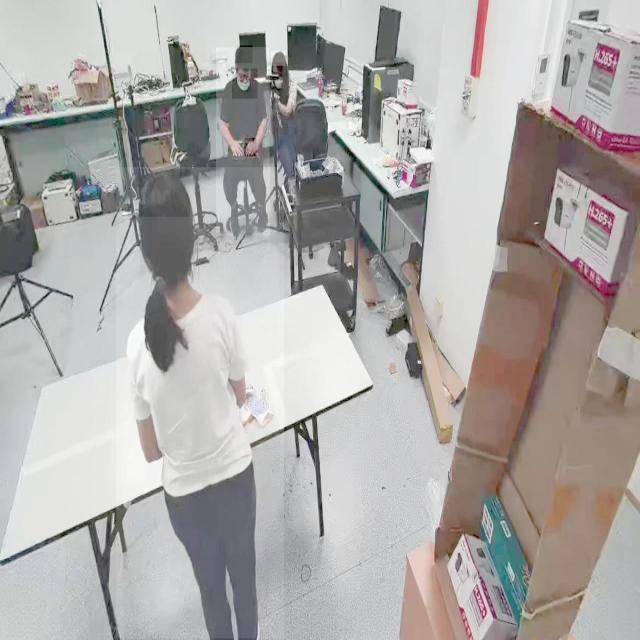face_mask: (232, 68, 258, 100), (268, 62, 283, 91)
hand_noglove: (229, 138, 244, 156), (245, 138, 257, 157)
head_nohelmet: (138, 169, 190, 218), (235, 45, 253, 64), (271, 50, 286, 66)
person: (116, 167, 284, 639), (216, 47, 270, 236)
shoes: (225, 201, 242, 240), (254, 200, 271, 232)
